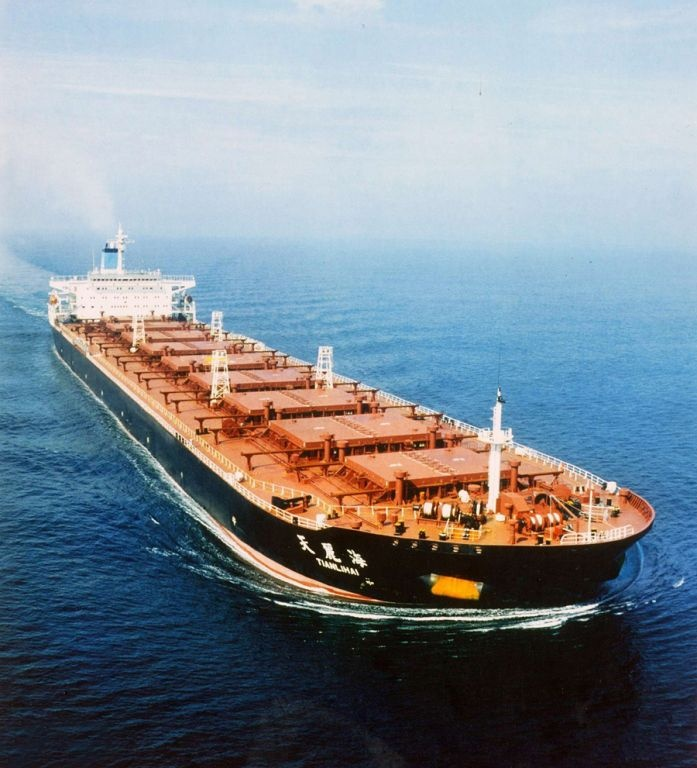Cargoship: (47, 218, 654, 619)
